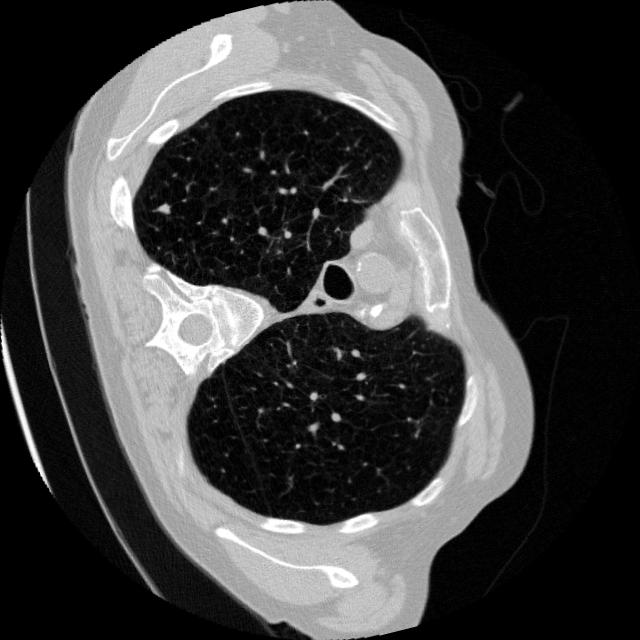nodule: (144, 188, 182, 226)
